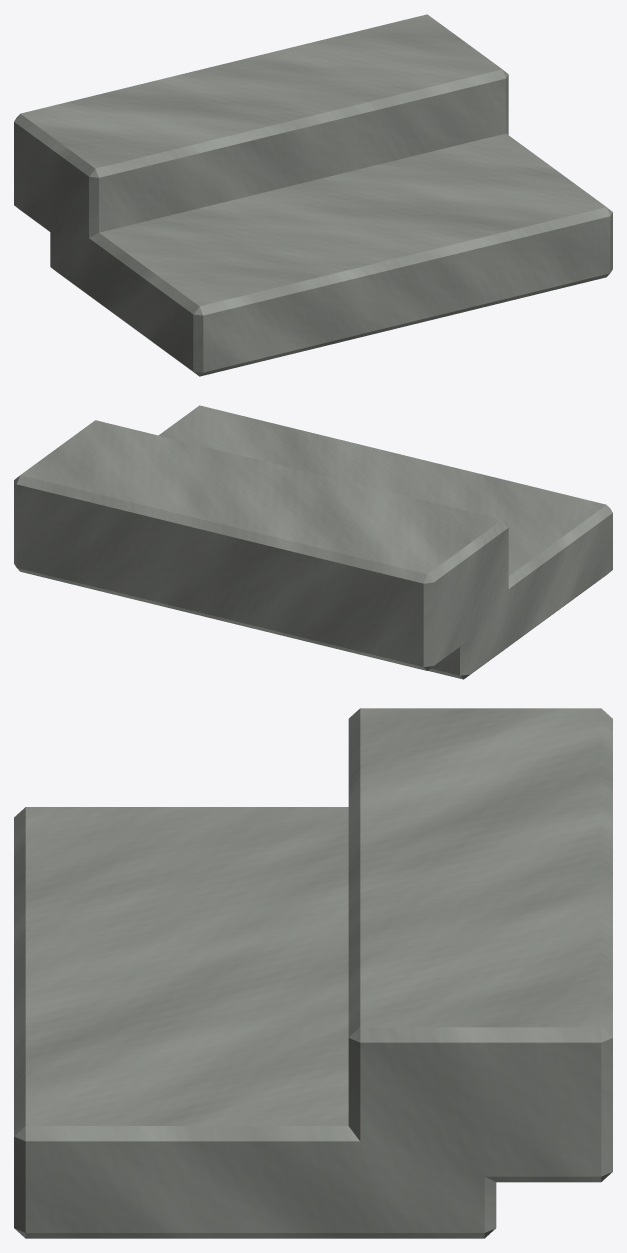
The model's file is stairs_1m.glb.
The picture shows the model from 3 angles, top to bottom: view 1: azimuth 30°, elevation 25°; view 2: azimuth 150°, elevation 25°; view 3: azimuth 270°, elevation 25°; orthographic projection. The views are drawn at different scales.
Parts seen in each view (by area): view 1: stairs_1m; view 2: stairs_1m; view 3: stairs_1m.
Part boxes in pixels (left/top/right/bottom): stairs_1m: left=14, top=14, right=612, bottom=376; stairs_1m: left=14, top=405, right=612, bottom=679; stairs_1m: left=14, top=708, right=612, bottom=1238.
Bounding box in the file's own units: 1 × 0.3 × 0.77.
1 material, 1 textured.
